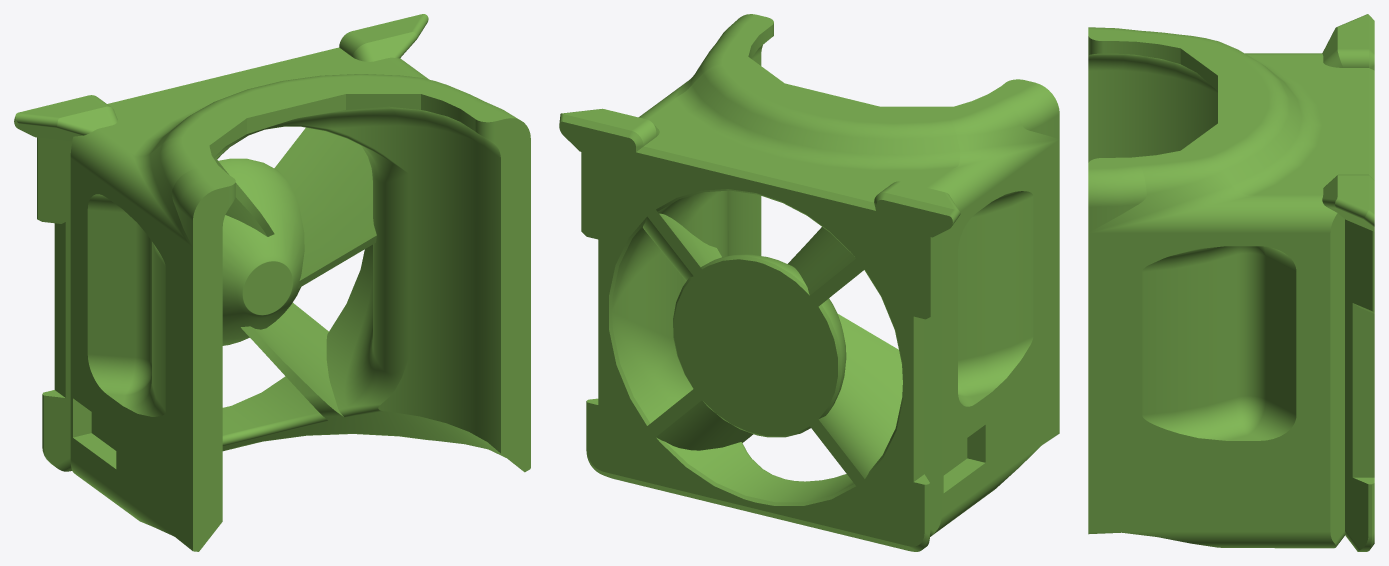
Rendered from A4T HE Duct - ReVolcano.gltf.
3 renders of one model, left to right at view 1: azimuth 30°, elevation 25°; view 2: azimuth 150°, elevation 25°; view 3: azimuth 270°, elevation 25°, orthographic. The views are drawn at different scales.
Parts seen in each view (by area): view 1: A4T HE Duct - ReVolcano; view 2: A4T HE Duct - ReVolcano; view 3: A4T HE Duct - ReVolcano.
Boxes of the visible parts, left/top/right/bottom form: A4T HE Duct - ReVolcano: left=14, top=14, right=530, bottom=551; A4T HE Duct - ReVolcano: left=559, top=14, right=1059, bottom=551; A4T HE Duct - ReVolcano: left=1088, top=14, right=1374, bottom=551.
Size of the model in its own units: 0.033 by 0.029 by 0.02.
